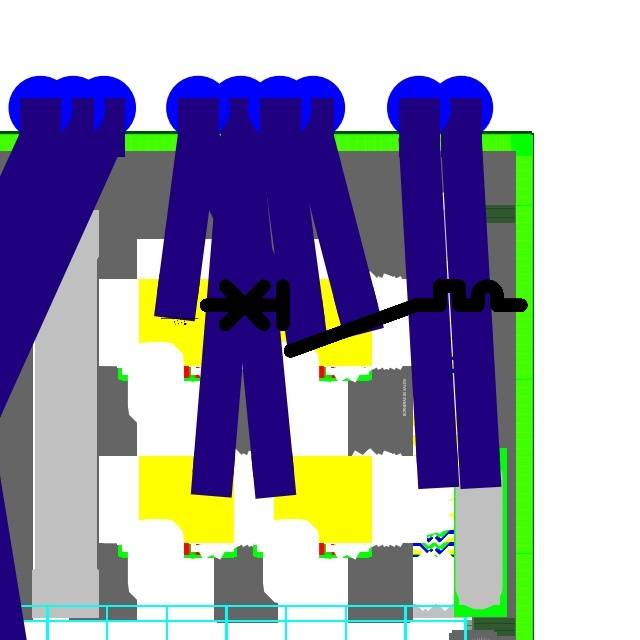interruptor_termomagnetico: (198, 278, 528, 359)
